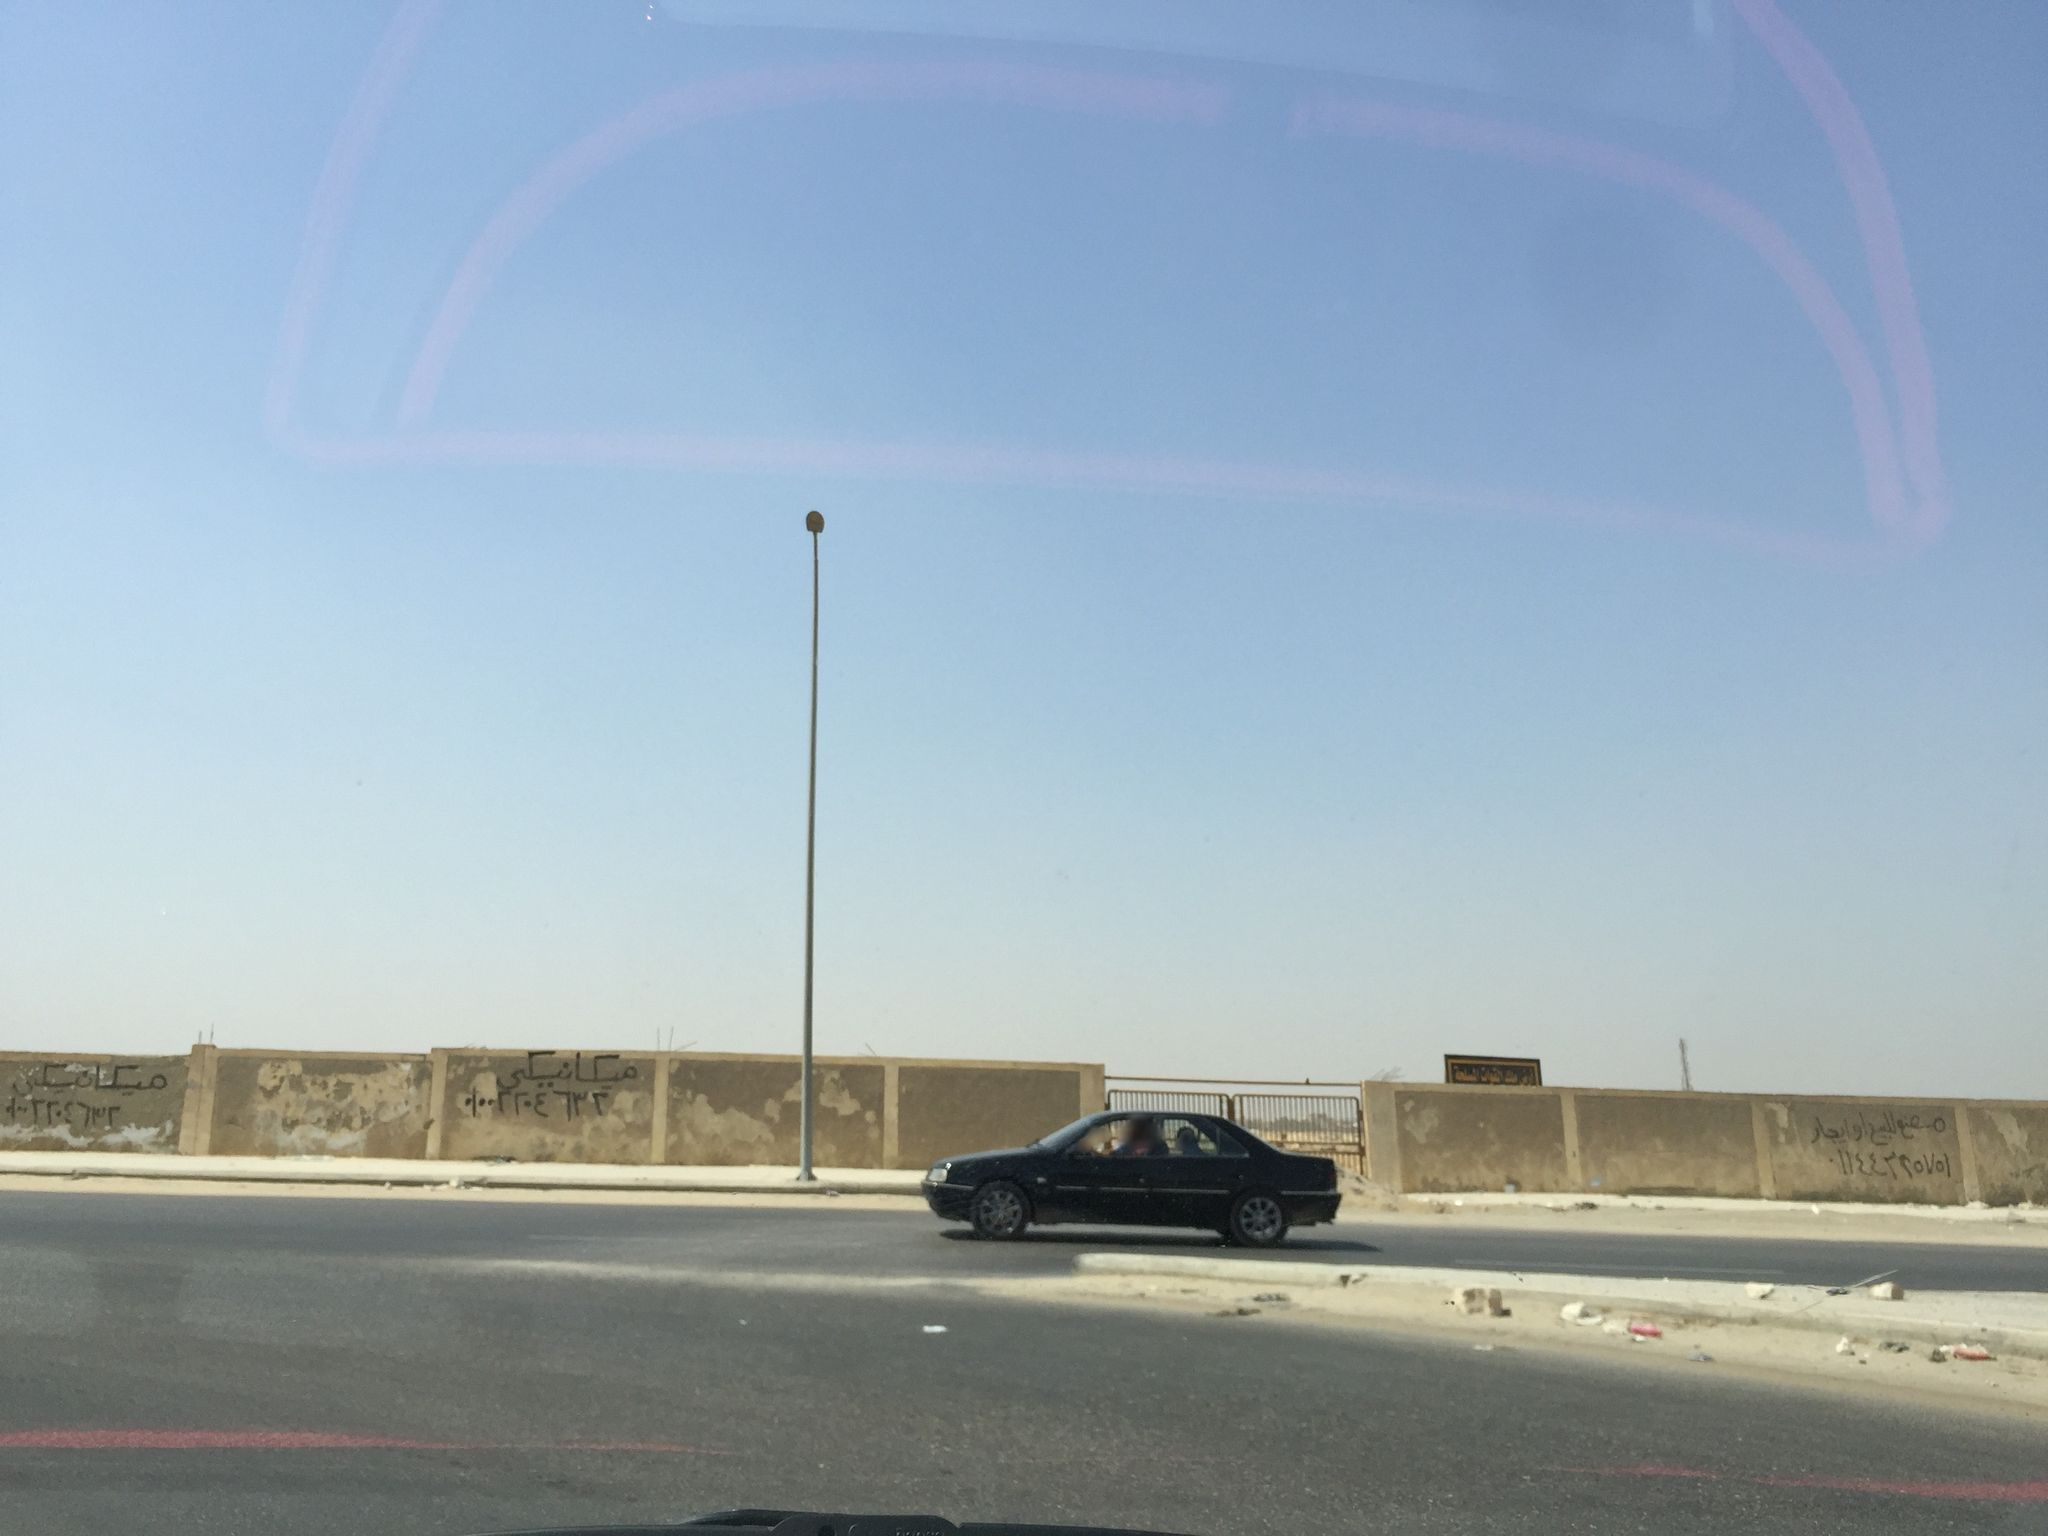car: (921, 1108, 1342, 1249)
